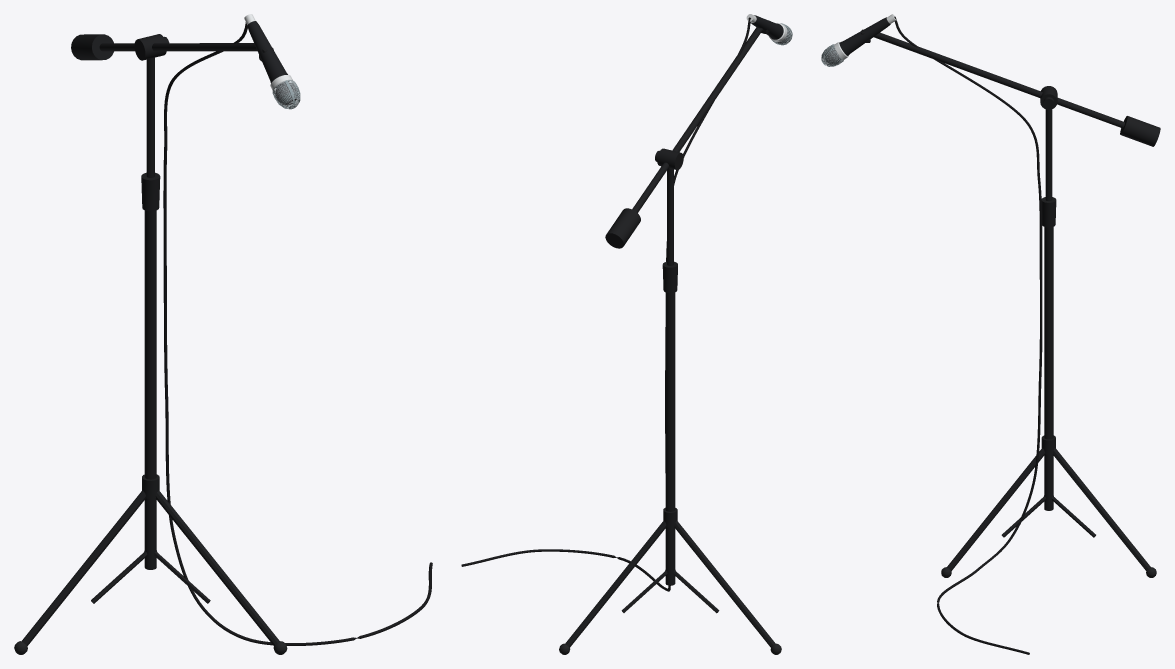
File: microphone.glb
3 views of the same model, side by side, from view 1: azimuth 30°, elevation 25°; view 2: azimuth 150°, elevation 25°; view 3: azimuth 270°, elevation 25° (orthographic). The views are drawn at different scales.
Parts seen in each view (by area): view 1: Microphone_On_Stand; view 2: Microphone_On_Stand; view 3: Microphone_On_Stand.
Part boxes in pixels (x1,y1,x2,y2): Microphone_On_Stand: (14,14,432,654); Microphone_On_Stand: (461,14,792,654); Microphone_On_Stand: (821,14,1160,654).
Size of the model in its own units: 0.9366 by 1.51 by 0.8601.
Materials: 7 (1 with a texture image).
